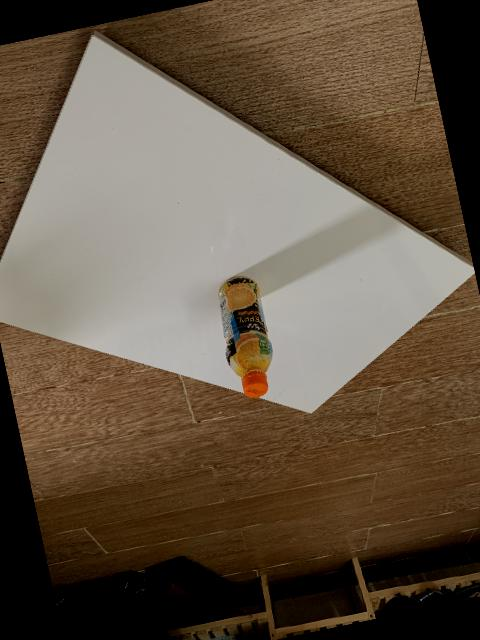teppy_orange_juice: (216, 273, 272, 396)
